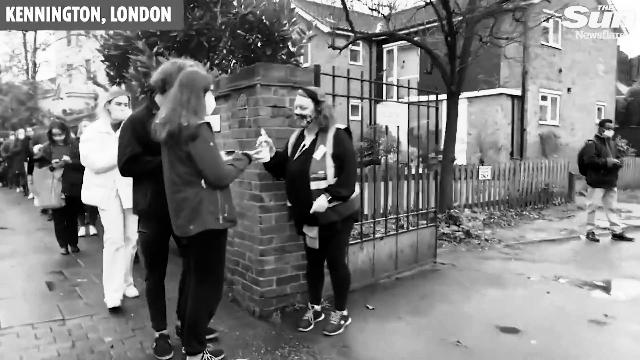berdiri: (156, 66, 252, 360), (261, 83, 359, 341), (78, 90, 146, 318), (574, 118, 634, 248)
